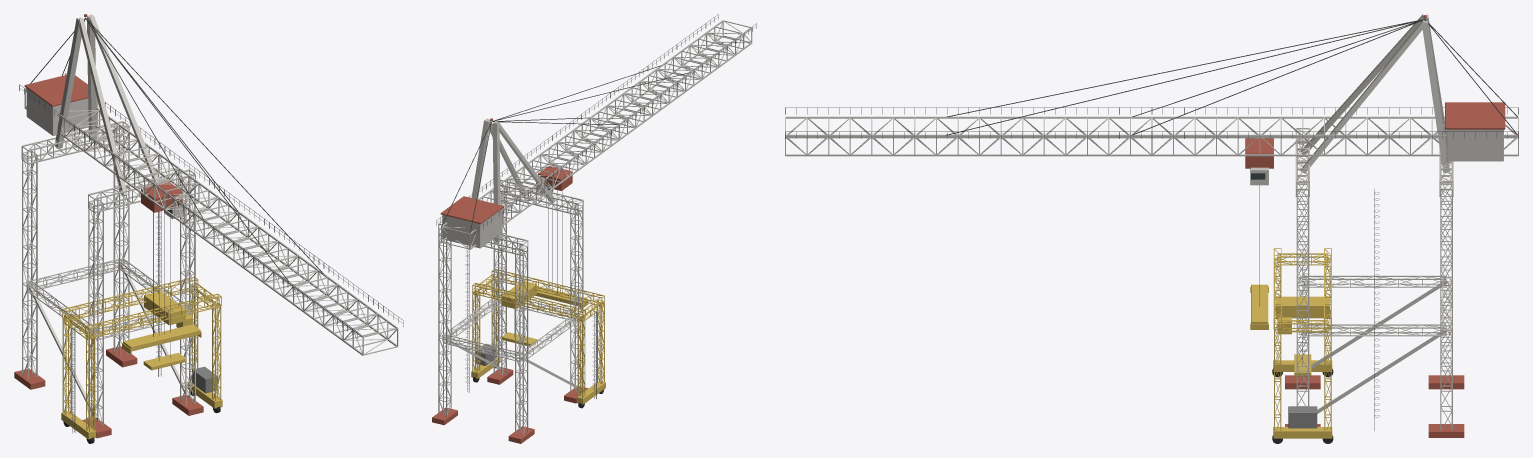
Rendered from cranes.glb.
3 views of the same model, side by side, from view 1: azimuth 30°, elevation 25°; view 2: azimuth 150°, elevation 25°; view 3: azimuth 270°, elevation 25° (orthographic). The views are drawn at different scales.
Visible parts, largest first — view 1: sts, rtg; view 2: sts, rtg; view 3: sts, rtg.
Boxes of the visible parts, <box> form: sts: <box>14,14,403,438</box>; rtg: <box>61,277,222,443</box>; sts: <box>432,14,756,443</box>; rtg: <box>471,269,605,408</box>; sts: <box>785,14,1518,437</box>; rtg: <box>1272,248,1333,443</box>.
Bounding box in the file's own units: 24.4 × 60.55 × 102.
